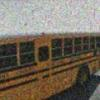buses: (0, 28, 100, 100)
